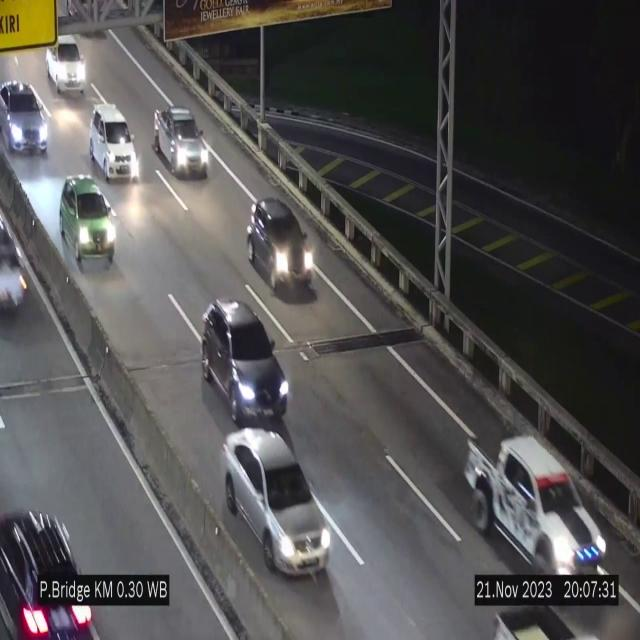Car: (462, 423, 608, 575), (0, 478, 101, 640), (223, 429, 331, 574), (202, 299, 290, 425), (249, 198, 315, 305), (55, 174, 118, 266), (0, 189, 36, 323), (90, 102, 140, 182), (153, 106, 209, 176), (0, 81, 48, 153), (44, 32, 88, 98)
